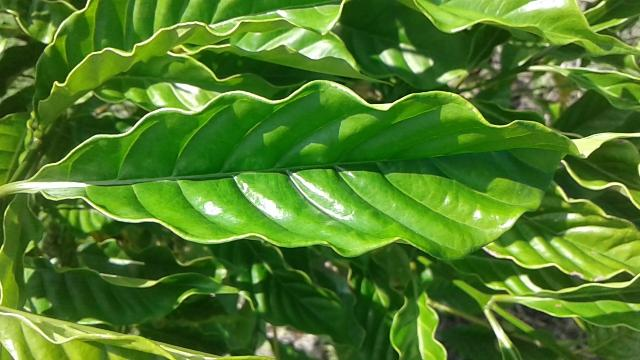healthy: (26, 72, 640, 262)
